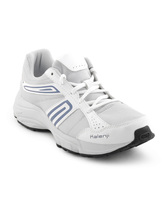shoes: (9, 44, 158, 160)
